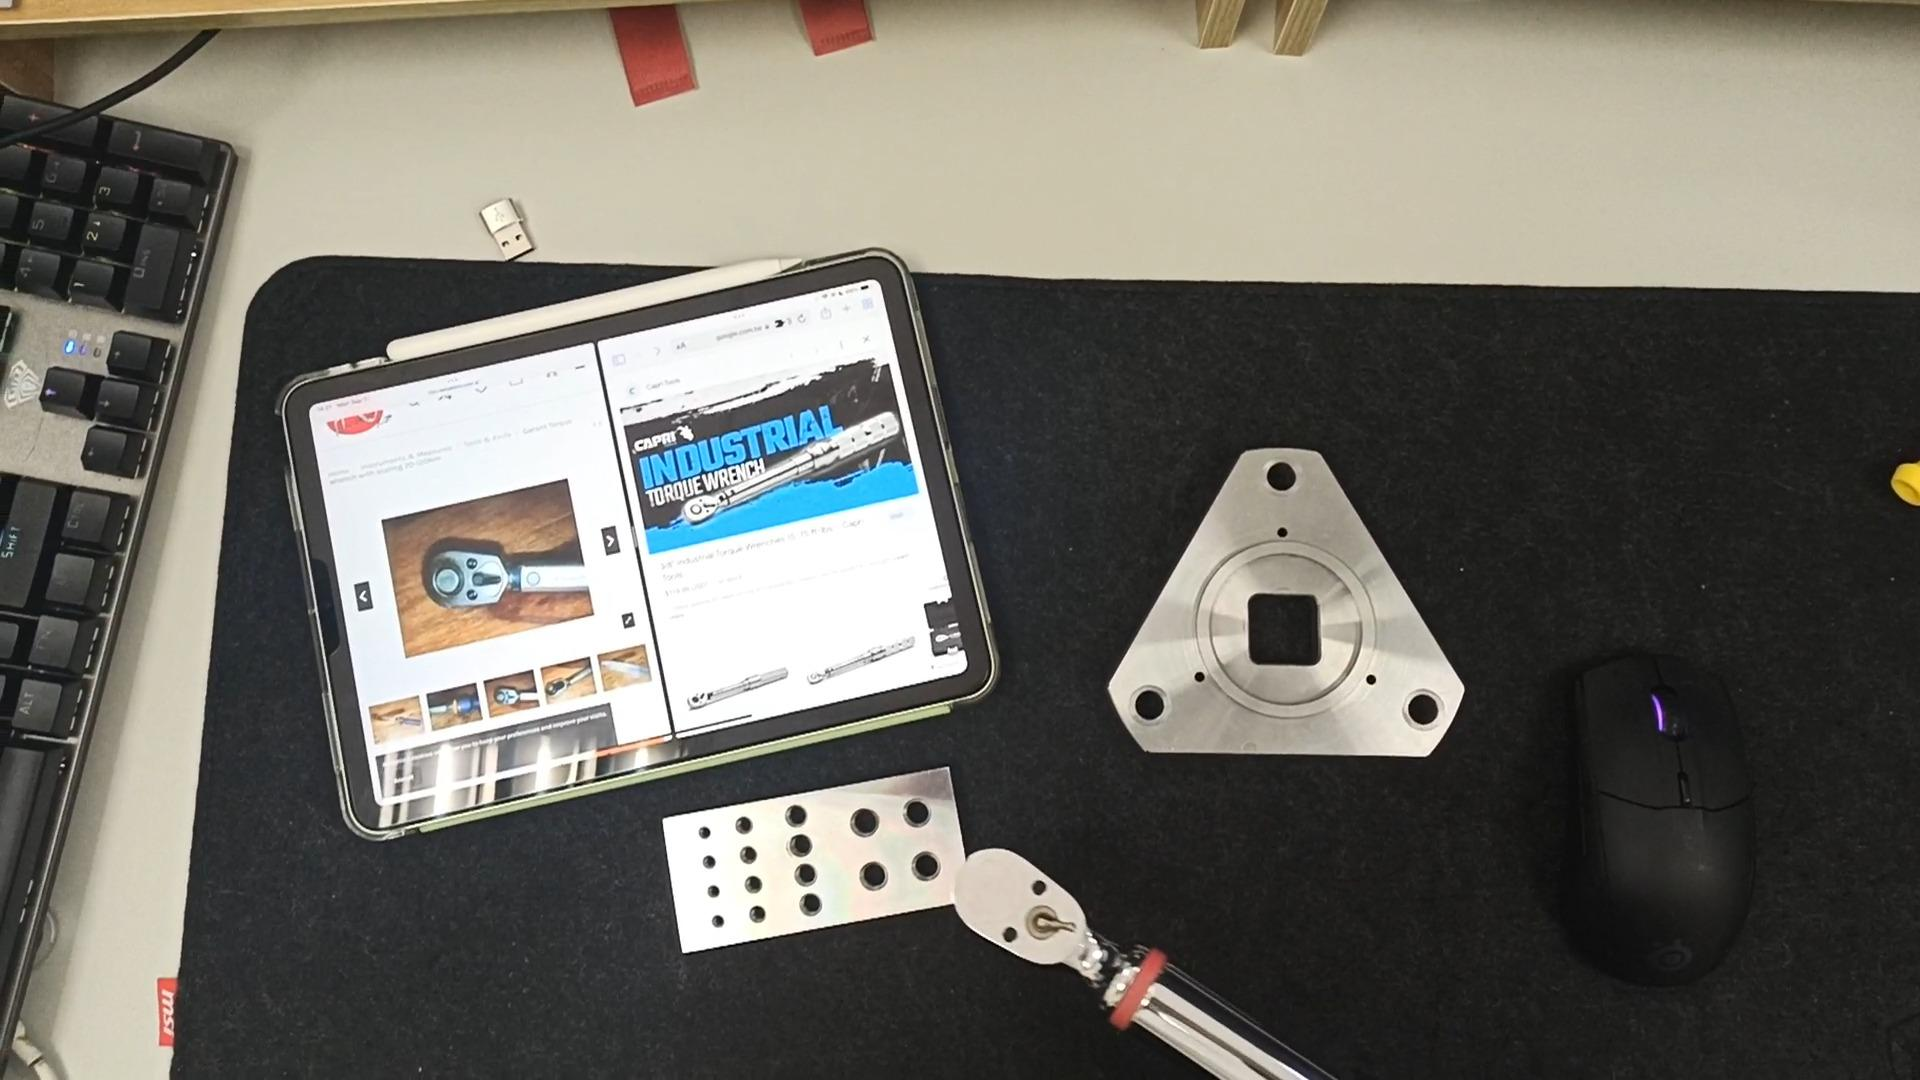Tool: (948, 849, 1137, 1005), (417, 543, 517, 612), (682, 488, 721, 529)
hole: (1386, 690, 1451, 737), (1245, 458, 1305, 500), (1112, 688, 1168, 732), (889, 852, 948, 891), (885, 802, 940, 836), (844, 861, 897, 897), (829, 808, 882, 843), (771, 837, 819, 865), (769, 806, 815, 833), (782, 897, 827, 922), (779, 865, 820, 891), (716, 816, 754, 837), (727, 877, 764, 898), (723, 849, 758, 870), (731, 909, 765, 928), (683, 824, 715, 843), (694, 915, 727, 932), (688, 856, 720, 873), (692, 884, 724, 901)
